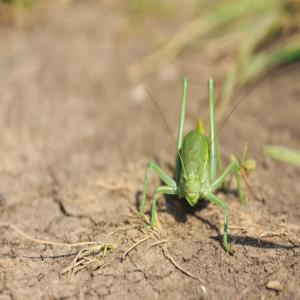locust: (137, 53, 257, 244)
